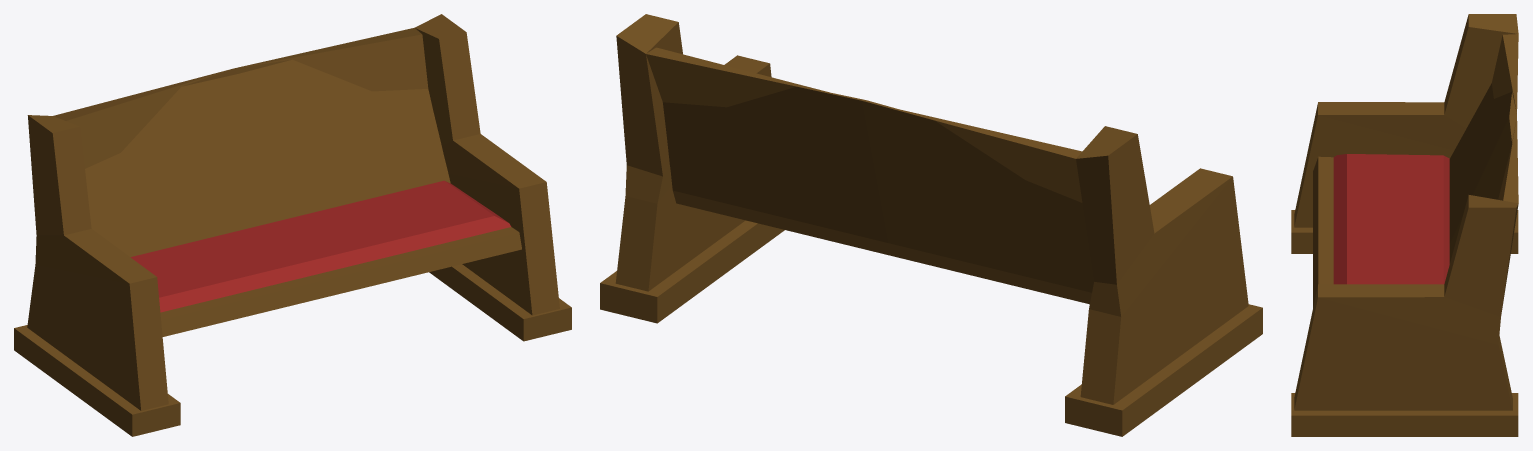
The model's file is Bench1.glb.
3 renders of one model, left to right at view 1: azimuth 30°, elevation 25°; view 2: azimuth 150°, elevation 25°; view 3: azimuth 270°, elevation 25°, orthographic. The views are drawn at different scales.
Visible parts, largest first — view 1: Cube; view 2: Cube; view 3: Cube.
Boxes of the visible parts, x1,y1,x2,y2 form: Cube: [14, 14, 571, 436]; Cube: [600, 14, 1262, 436]; Cube: [1291, 14, 1518, 436].
Size of the model in its own units: 1.85 by 0.937 by 0.8643.
